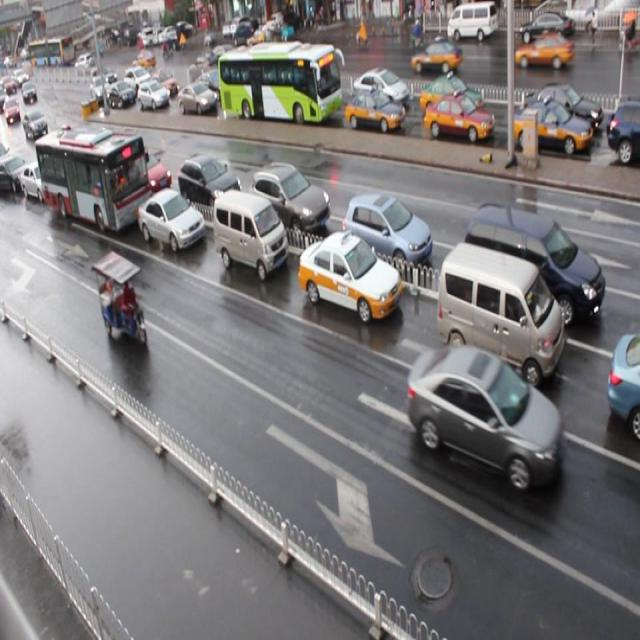car: (406, 344, 563, 491), (298, 228, 401, 322), (342, 192, 433, 276), (250, 162, 330, 234), (513, 98, 592, 156), (137, 186, 205, 251), (178, 151, 243, 210), (522, 85, 601, 132), (607, 331, 640, 437), (424, 92, 494, 140), (344, 85, 404, 133), (426, 74, 490, 119), (352, 67, 409, 108), (607, 98, 640, 160), (128, 148, 172, 194), (68, 130, 111, 172), (21, 158, 58, 202), (178, 81, 219, 117), (270, 67, 309, 102), (1, 153, 30, 193), (139, 77, 169, 113), (193, 70, 227, 99), (150, 69, 182, 98), (125, 63, 154, 91), (106, 80, 134, 106)
truck: (437, 240, 563, 388), (464, 199, 604, 328), (212, 187, 288, 279)
van: (35, 126, 154, 234), (216, 43, 340, 123)
